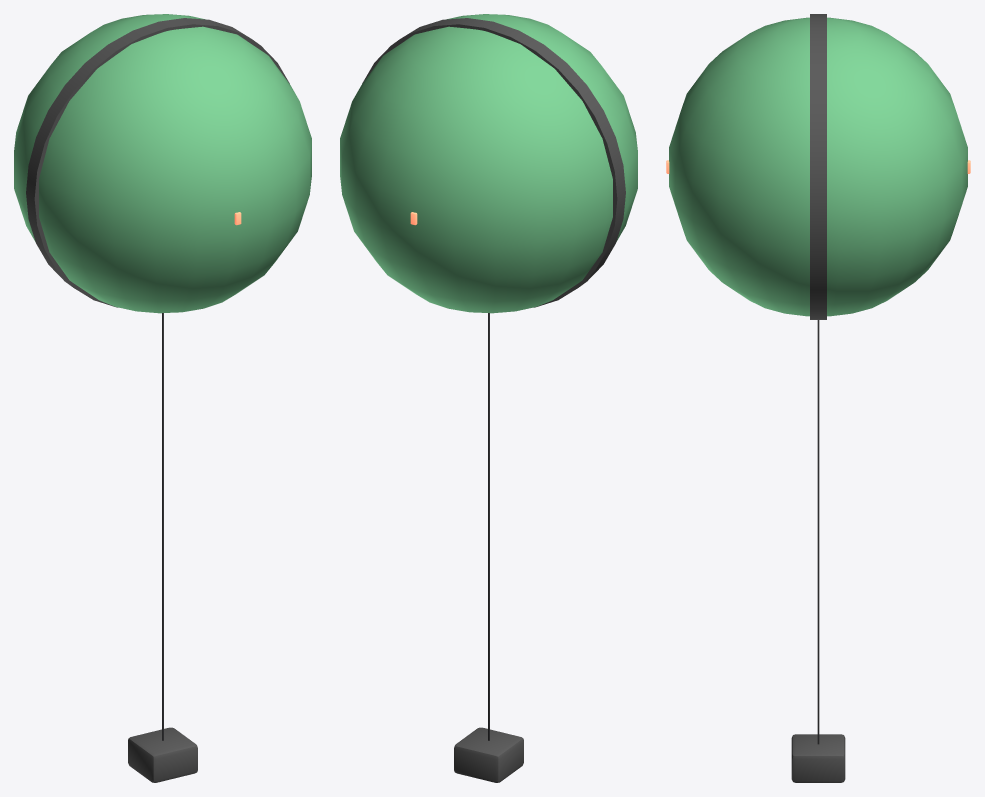
File: decoy.glb
3 renders of one model, left to right at view 1: azimuth 30°, elevation 25°; view 2: azimuth 150°, elevation 25°; view 3: azimuth 270°, elevation 25°, orthographic.
Visible parts, largest first — view 1: Body; view 2: Body; view 3: Body.
Boxes of the visible parts, box(x1,y1,x2,y2) form: Body: box(14, 14, 311, 782); Body: box(340, 14, 637, 782); Body: box(666, 14, 970, 782).
Bounding box in the file's own units: 2.84 × 7.62 × 2.82.
